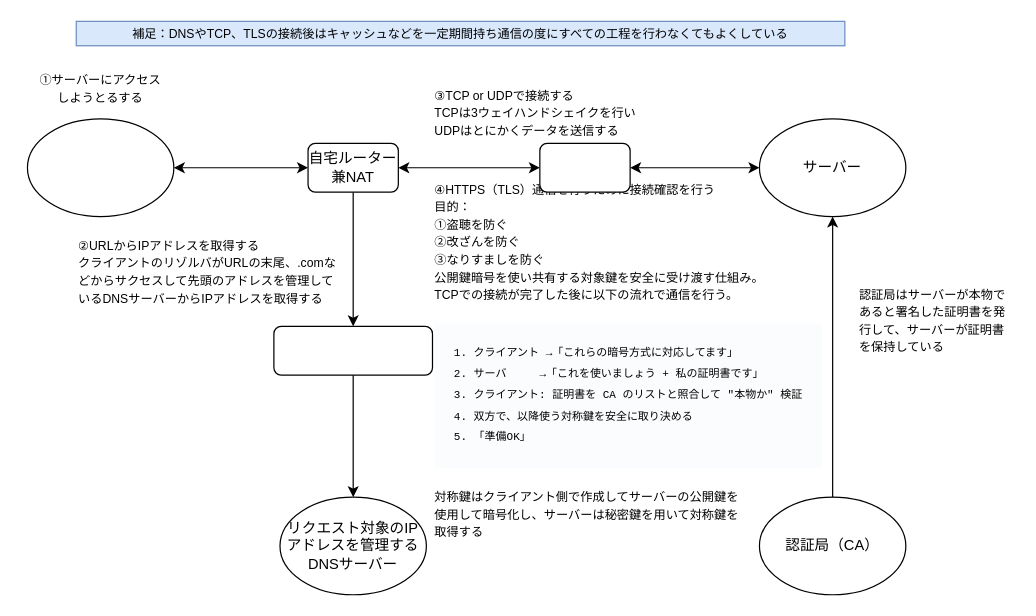
Image size: 1036x616. Some labels were removed from this diagram. Each missing label, with the centre of its shape:
"com、jp、orgなどの トップレベルドメインのDNSサーバー" goes at point 352,350.
"クライアント" goes at point 100,167.
"外部ルーター" goes at point 584,167.
